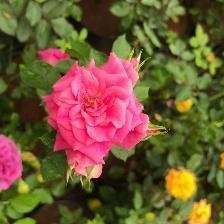rose: (42, 52, 151, 174), (1, 131, 24, 187), (165, 168, 201, 200), (183, 204, 218, 224)
